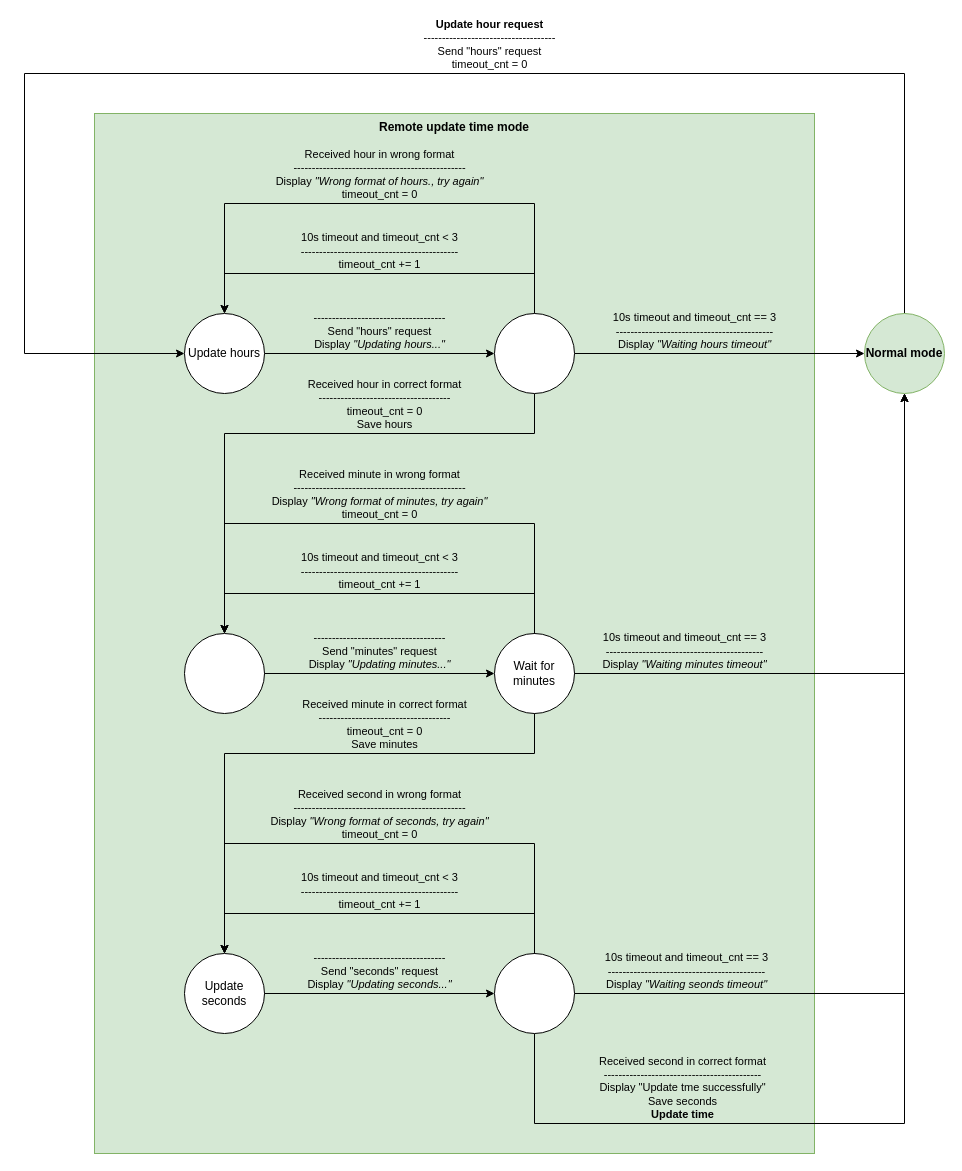
Some shapes in this 962 by 1171 pixel diagram are drawn without their labels. The shapes that lost their labels are listed below. From the top down, each one's centre as x and y in pixels, then its label:
[534,353]: Wait for hours
[224,673]: Update minutes
[534,993]: Wait for seconds
